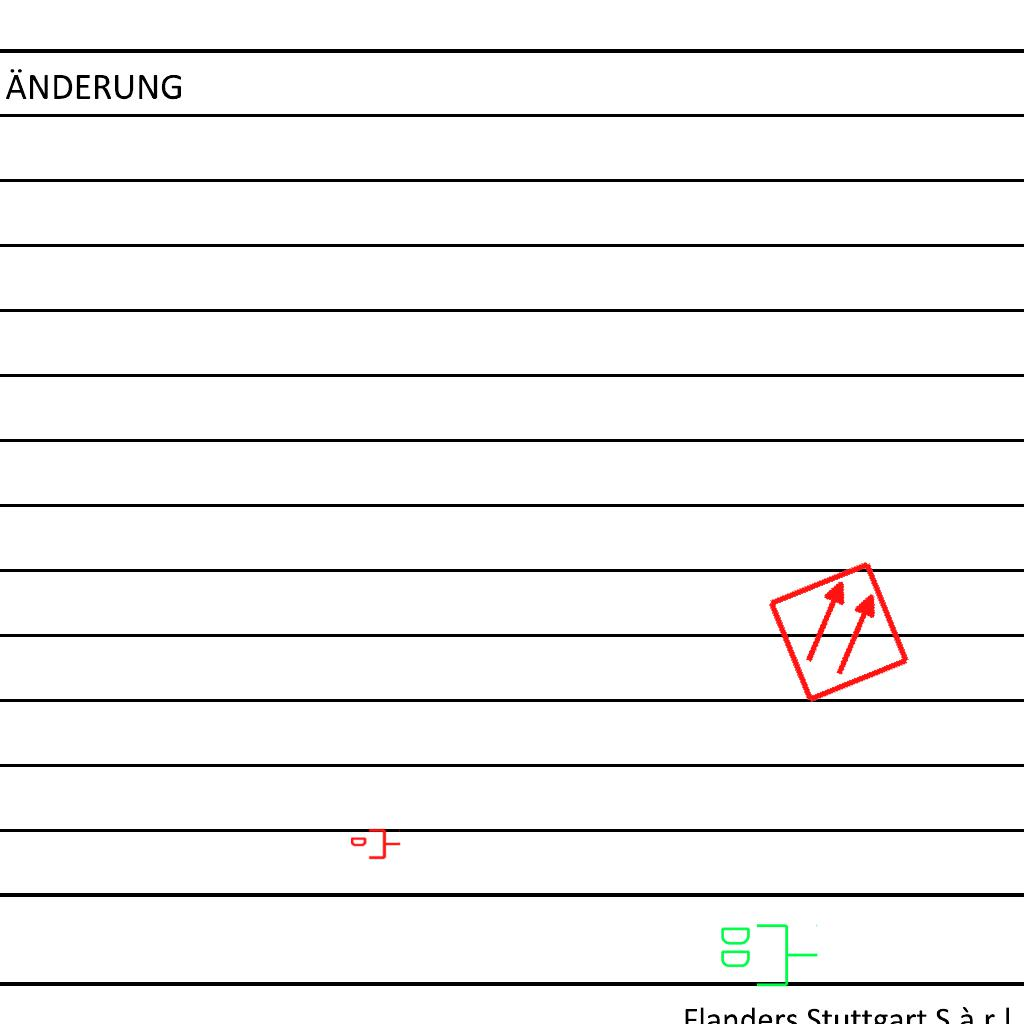Datenanschluss_einfach: (351, 827, 401, 861)
Datenanschluss_zweifach: (717, 920, 820, 989)
RMO_Rauchmelder_optischer: (764, 557, 913, 706)
